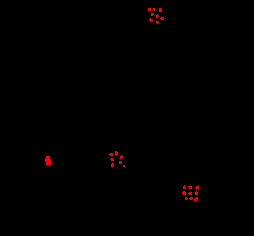Target: (45, 156, 52, 165), (149, 18, 153, 22), (182, 191, 186, 195), (194, 197, 198, 201), (115, 151, 118, 156), (159, 8, 162, 12), (156, 14, 159, 18), (160, 17, 164, 20), (109, 153, 113, 156), (120, 155, 123, 159), (110, 158, 114, 161), (111, 163, 114, 167), (183, 185, 186, 189), (188, 186, 192, 189), (195, 186, 199, 189), (195, 191, 198, 195), (188, 192, 192, 195), (189, 197, 193, 200), (148, 8, 151, 11), (151, 13, 154, 16), (156, 21, 159, 24), (119, 161, 122, 164), (185, 197, 188, 200), (153, 8, 155, 11), (123, 165, 125, 167)
